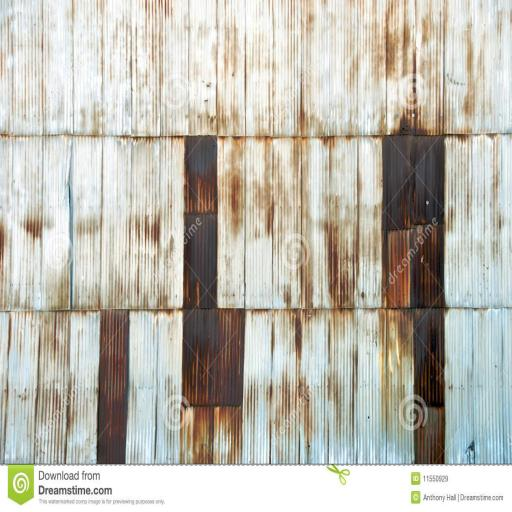segmentation: (0, 0, 512, 137), (382, 135, 444, 308), (302, 137, 358, 307), (182, 308, 244, 406), (386, 310, 424, 462), (98, 310, 129, 463), (401, 308, 444, 406), (184, 213, 216, 307), (185, 136, 217, 213), (415, 407, 444, 463), (296, 383, 311, 416)
